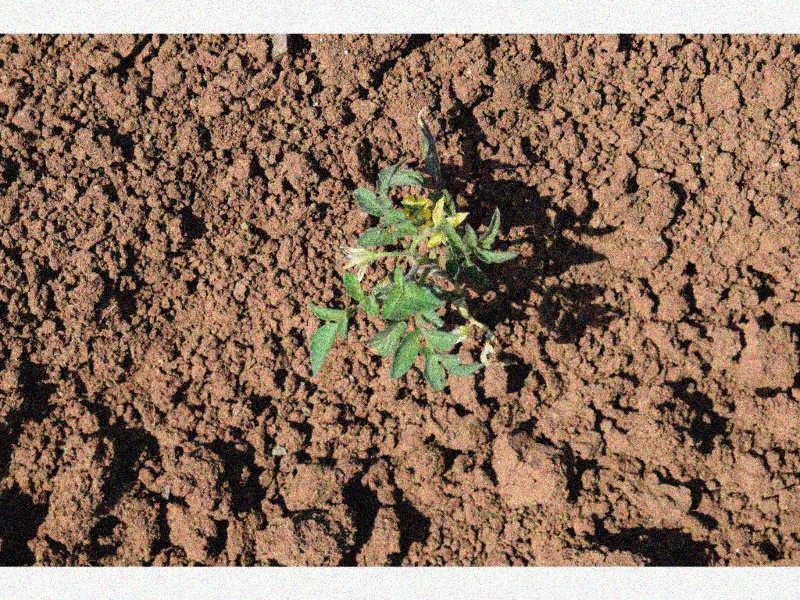tomato: (307, 113, 518, 390)
